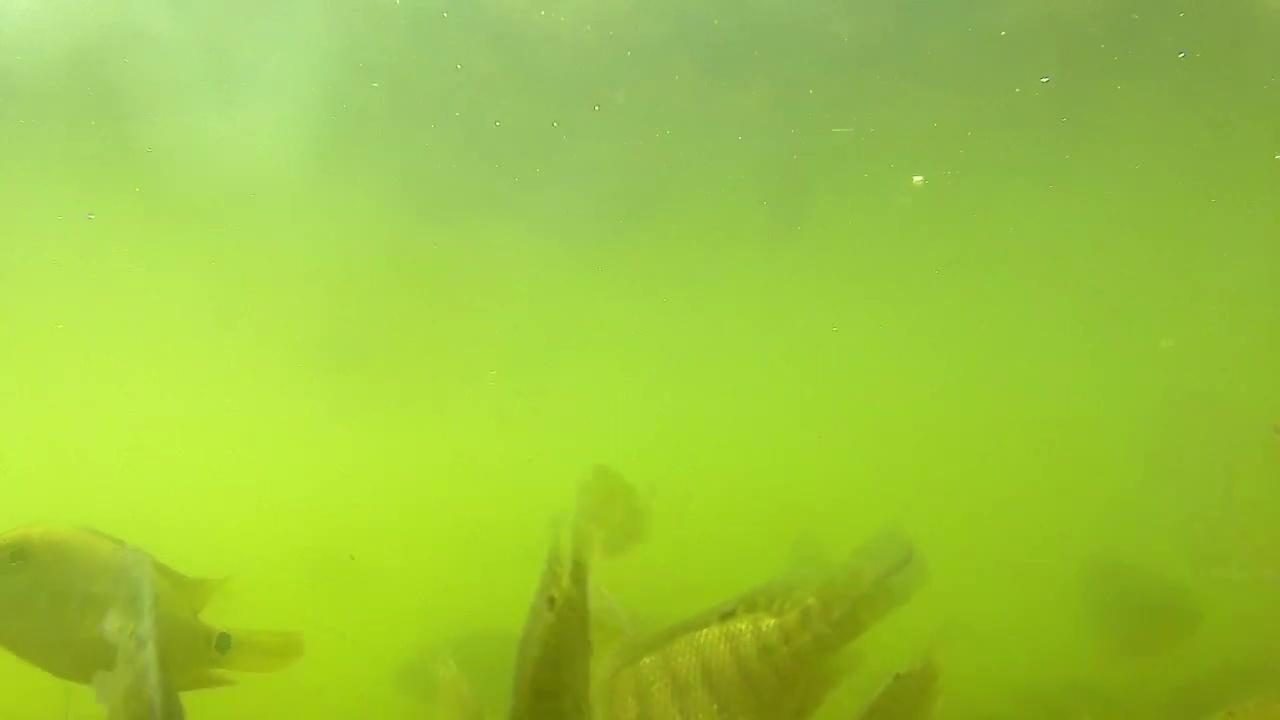Tilapia: (0, 518, 315, 710)
